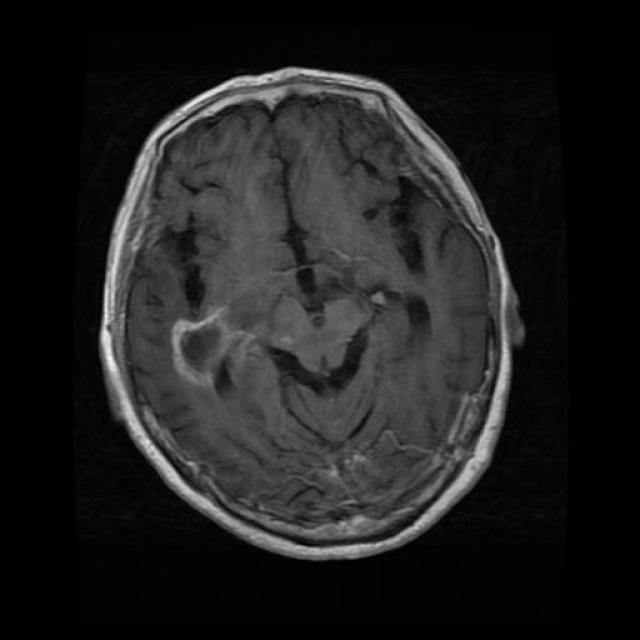brain_tumor: (180, 322, 228, 373)
